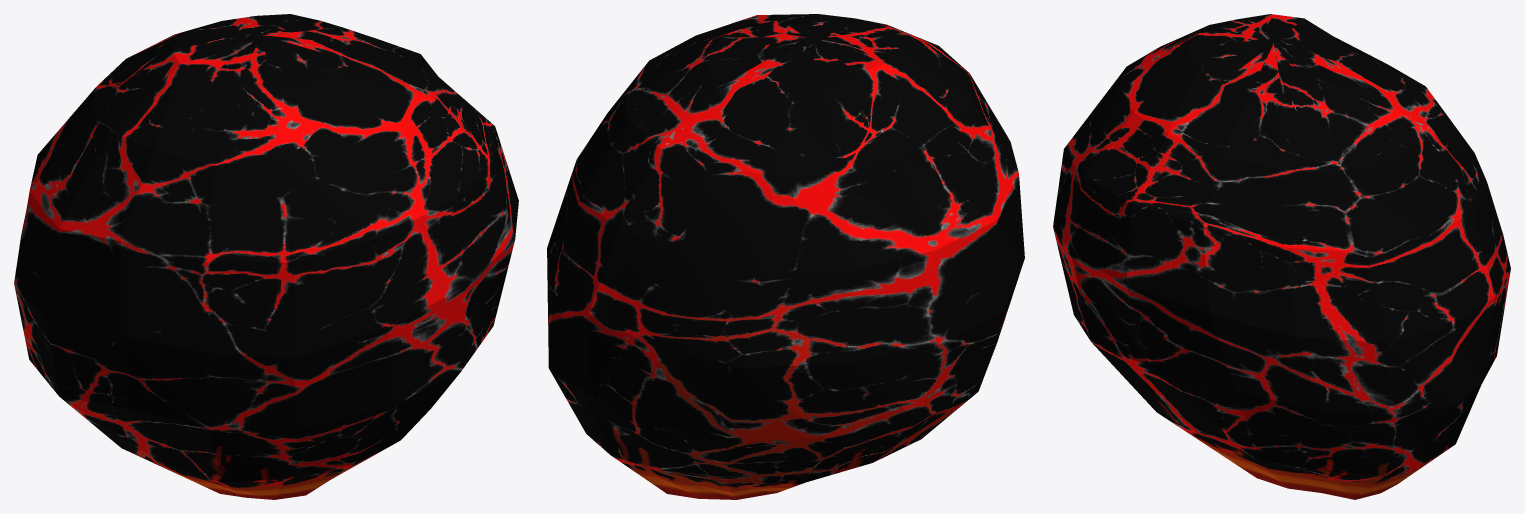
File: Meteor.FBX
3 renders of one model, left to right at view 1: azimuth 30°, elevation 25°; view 2: azimuth 150°, elevation 25°; view 3: azimuth 270°, elevation 25°, orthographic. The views are drawn at different scales.
Visible parts, largest first — view 1: meteor_SM; view 2: meteor_SM; view 3: meteor_SM.
Boxes of the visible parts, x1,y1,x2,y2 form: meteor_SM: [14, 14, 518, 499]; meteor_SM: [547, 14, 1024, 499]; meteor_SM: [1053, 14, 1510, 499].
Size of the model in its own units: 80 by 80 by 80.
